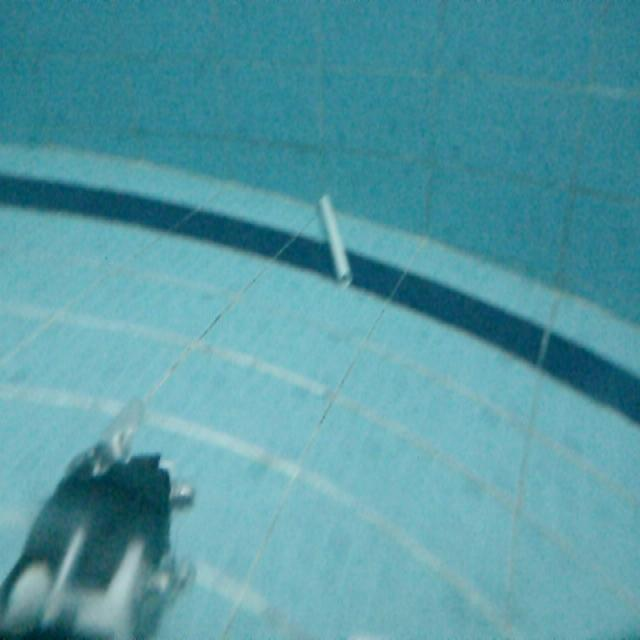Cube: (317, 192, 358, 292)
